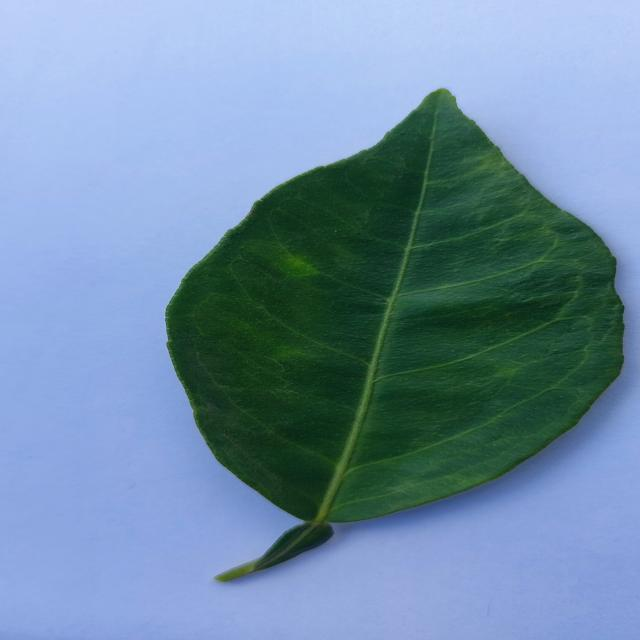greening: (167, 90, 621, 573)
